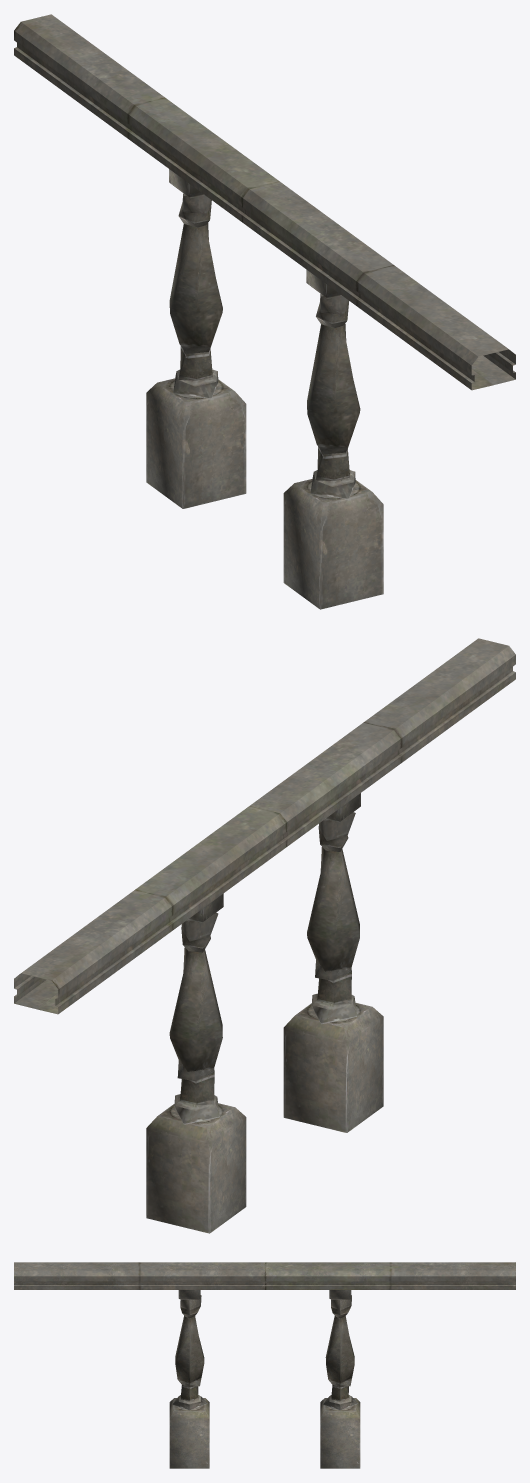
File: Railing08_1.fbx
The picture shows the model from 3 angles, top to bottom: view 1: azimuth 30°, elevation 25°; view 2: azimuth 150°, elevation 25°; view 3: azimuth 270°, elevation 25°; orthographic projection. The views are drawn at different scales.
Visible parts, largest first — view 1: Railing08_1; view 2: Railing08_1; view 3: Railing08_1.
Boxes of the visible parts, bbox=[...] form: Railing08_1: bbox=[14, 14, 515, 609]; Railing08_1: bbox=[14, 638, 515, 1233]; Railing08_1: bbox=[14, 1262, 515, 1468].
Bounding box in the file's own units: 20.04 × 106 × 250.
